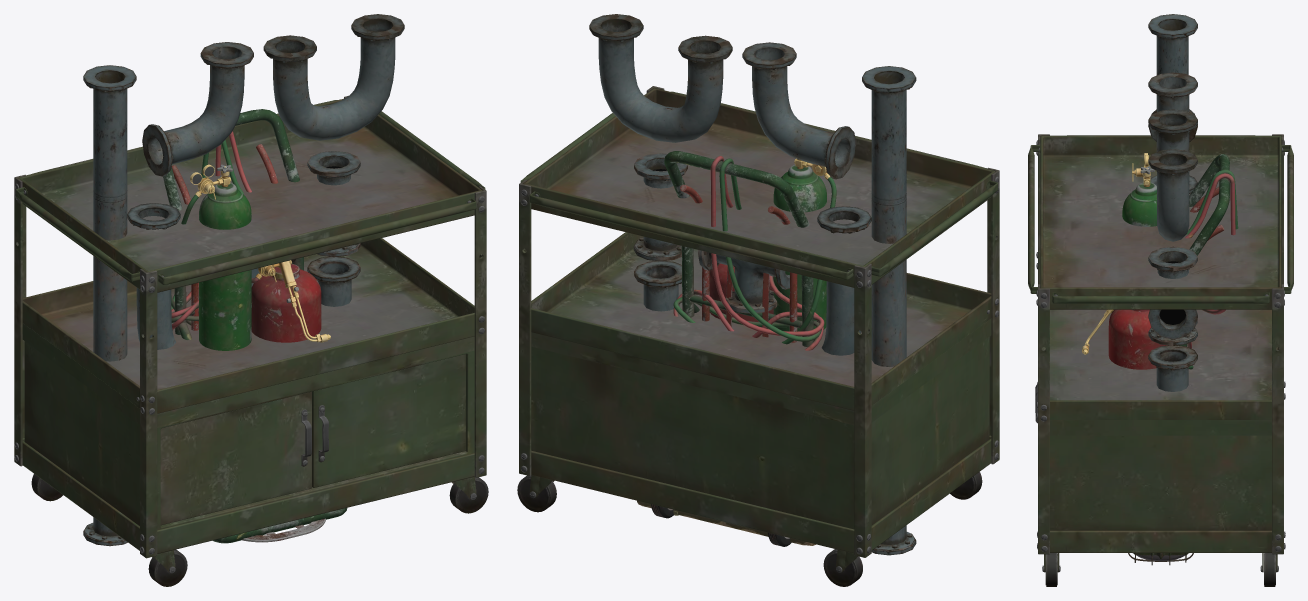
The model's file is zone-yard-maintenance-kit.glb.
3 renders of one model, left to right at view 1: azimuth 30°, elevation 25°; view 2: azimuth 150°, elevation 25°; view 3: azimuth 270°, elevation 25°, orthographic. The views are drawn at different scales.
Visible parts, largest first — view 1: industrial_storage_cart, portable_welding_cart, modular_industrial_pipes_01_pipe02, modular_industrial_pipes_01_pipe05, modular_industrial_pipes_01_pipe04, modular_industrial_pipes_01_pipe03, modular_industrial_pipes_01_pipe01, modular_industrial_pipes_01_pipe06, hand_truck; view 2: industrial_storage_cart, portable_welding_cart, modular_industrial_pipes_01_pipe02, modular_industrial_pipes_01_pipe05, modular_industrial_pipes_01_pipe04, modular_industrial_pipes_01_pipe03, hand_truck, modular_industrial_pipes_01_pipe07, modular_industrial_pipes_01_pipe06, modular_industrial_pipes_01_pipe01, old_military_crate_a; view 3: industrial_storage_cart, portable_welding_cart, modular_industrial_pipes_01_pipe05, modular_industrial_pipes_01_pipe06, modular_industrial_pipes_01_pipe02, modular_industrial_pipes_01_pipe01, modular_industrial_pipes_01_pipe04, caged_hanging_light.
Boxes of the visible parts, x1,y1,x2,y2 form: industrial_storage_cart: (14,95,488,586); portable_welding_cart: (163,109,347,543); modular_industrial_pipes_01_pipe02: (83,65,136,546); modular_industrial_pipes_01_pipe05: (263,14,404,140); modular_industrial_pipes_01_pipe04: (142,42,253,176); modular_industrial_pipes_01_pipe03: (127,203,180,349); modular_industrial_pipes_01_pipe01: (307,256,360,306); modular_industrial_pipes_01_pipe06: (307,151,360,257); hand_truck: (171,144,325,542); industrial_storage_cart: (517,86,999,586); portable_welding_cart: (664,151,836,350); modular_industrial_pipes_01_pipe02: (862,66,916,555); modular_industrial_pipes_01_pipe05: (589,14,732,142); modular_industrial_pipes_01_pipe04: (742,42,855,179); modular_industrial_pipes_01_pipe03: (817,206,871,355); hand_truck: (651,184,797,546); modular_industrial_pipes_01_pipe07: (698,250,789,313); modular_industrial_pipes_01_pipe06: (633,153,687,261); modular_industrial_pipes_01_pipe01: (634,261,681,311); old_military_crate_a: (637,500,815,545); industrial_storage_cart: (1028,134,1293,586); portable_welding_cart: (1082,153,1238,369); modular_industrial_pipes_01_pipe05: (1148,109,1197,241); modular_industrial_pipes_01_pipe06: (1148,246,1197,345); modular_industrial_pipes_01_pipe02: (1148,14,1197,151); modular_industrial_pipes_01_pipe01: (1148,345,1197,391); modular_industrial_pipes_01_pipe04: (1148,72,1197,142); caged_hanging_light: (1128,553,1193,565).
Bounding box in the file's own units: 1.6 × 1.95 × 1.1.
8 materials, 8 textured.
